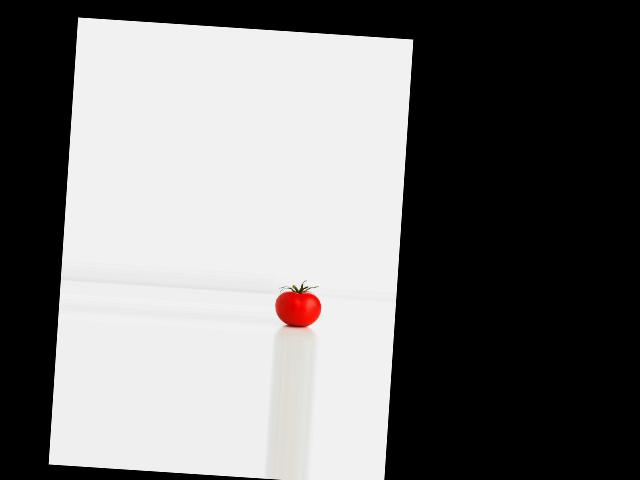tomato: (274, 290, 322, 327)
